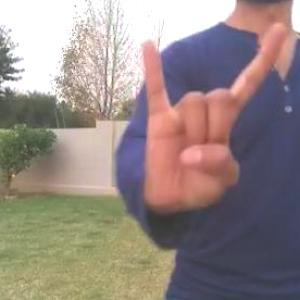takeoff-hand: (135, 14, 288, 209)
